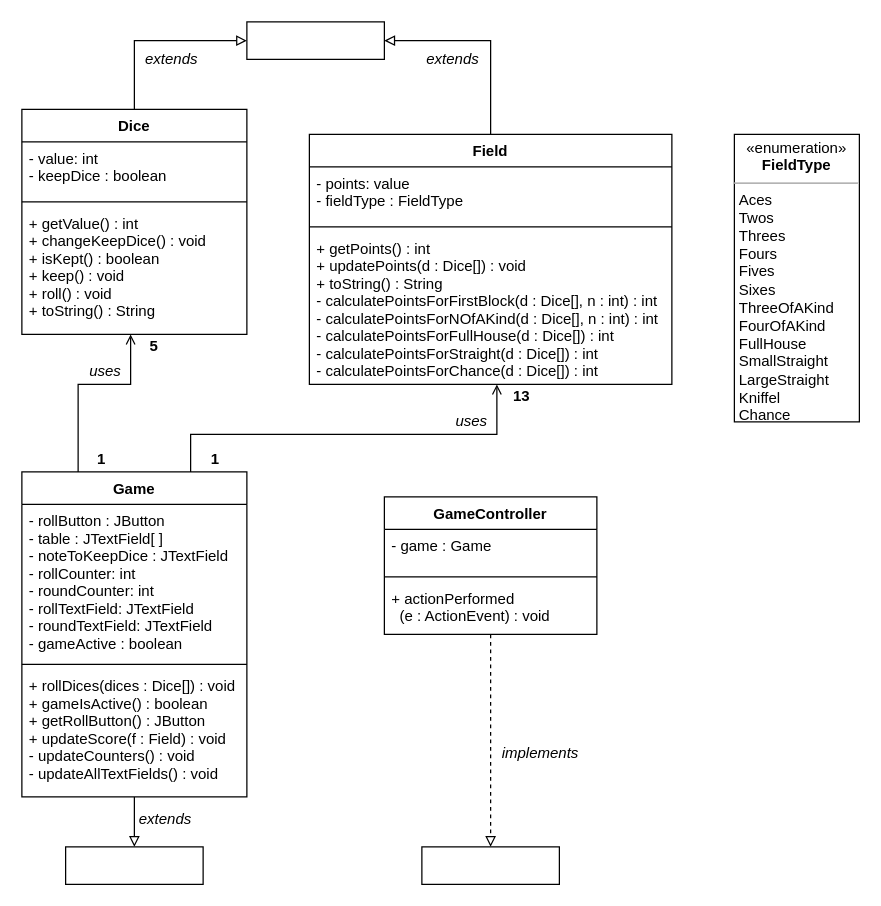
Image size: 881x906. Some labels were removed from this diagram. Each missing label, with the centre of its shape:
"ActionListener" belongs at (490,865).
"JButton" belongs at (315,40).
"JFrame" belongs at (133,865).
